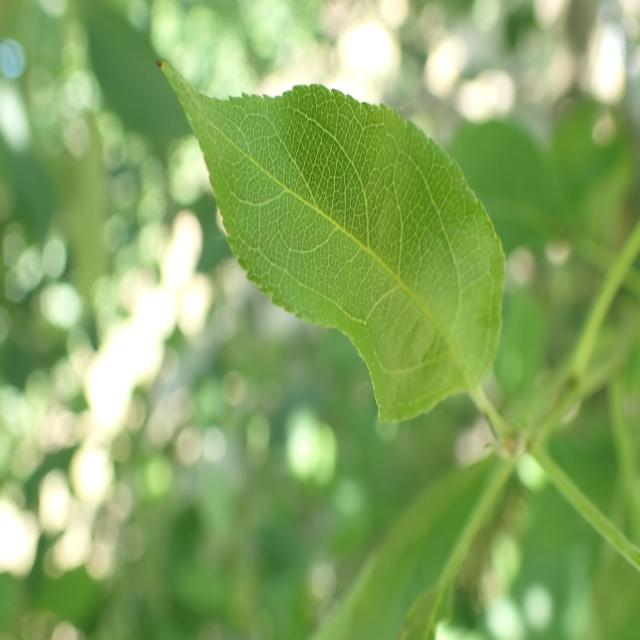healthy: (156, 55, 506, 425)
